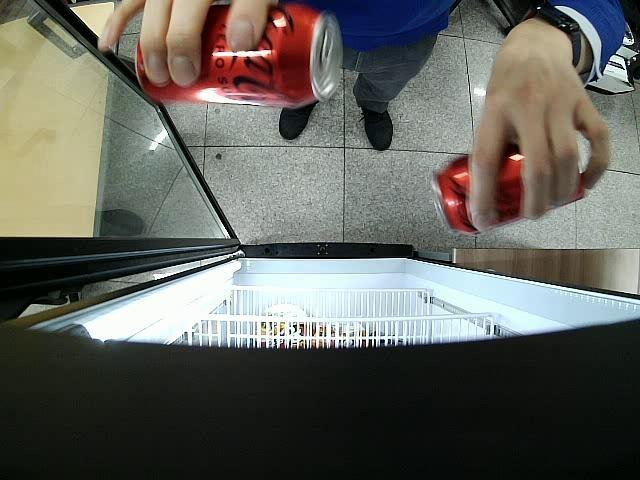11_cocaColaZero: (133, 4, 342, 109), (428, 148, 584, 236)
